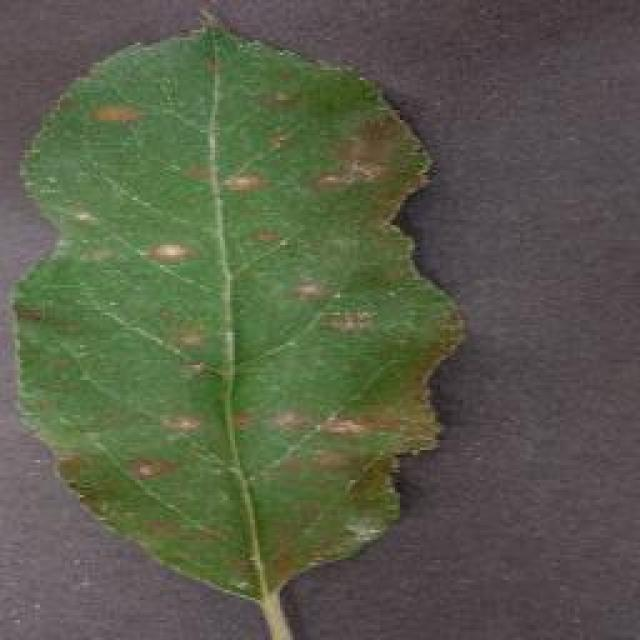apple rust disease: (8, 5, 468, 635)
